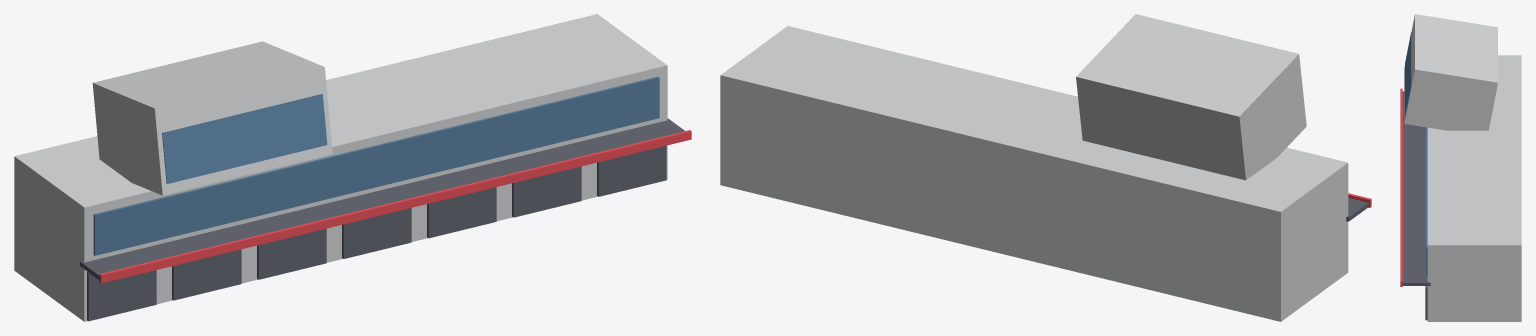
The model's file is pit_building.glb.
The picture shows the model from 3 angles, left to right: view 1: azimuth 30°, elevation 25°; view 2: azimuth 150°, elevation 25°; view 3: azimuth 270°, elevation 25°; orthographic projection. The views are drawn at different scales.
Visible parts, largest first — view 1: MainBlock, UpperGlass, ControlTower, Awning, ControlGlass, RedFascia, Bay_0, Bay_1, Bay_2, Bay_4, Bay_5, Bay_3 (+1 smaller); view 2: MainBlock, ControlTower; view 3: MainBlock, ControlTower, Awning, RedFascia, ControlGlass, UpperGlass, Bay_6.
Boxes of the visible parts, left/top/right/bottom form: MainBlock: left=14, top=14, right=667, bottom=321; UpperGlass: left=93, top=76, right=659, bottom=255; ControlTower: left=92, top=41, right=332, bottom=195; Awning: left=80, top=118, right=684, bottom=279; ControlGlass: left=162, top=94, right=327, bottom=183; RedFascia: left=99, top=130, right=691, bottom=283; Bay_0: left=87, top=270, right=156, bottom=321; Bay_1: left=172, top=249, right=241, bottom=300; Bay_2: left=257, top=228, right=326, bottom=279; Bay_4: left=427, top=187, right=496, bottom=238; Bay_5: left=512, top=166, right=581, bottom=217; Bay_3: left=342, top=208, right=411, bottom=258; MainBlock: left=720, top=26, right=1348, bottom=321; ControlTower: left=1076, top=14, right=1306, bottom=180; MainBlock: left=1427, top=55, right=1521, bottom=321; ControlTower: left=1404, top=14, right=1497, bottom=130; Awning: left=1402, top=91, right=1430, bottom=285; RedFascia: left=1400, top=88, right=1402, bottom=286; ControlGlass: left=1405, top=31, right=1411, bottom=115; UpperGlass: left=1426, top=127, right=1427, bottom=275; Bay_6: left=1425, top=286, right=1427, bottom=320.
Bounding box in the file's own units: 48.6 × 16.18 × 12.93.
